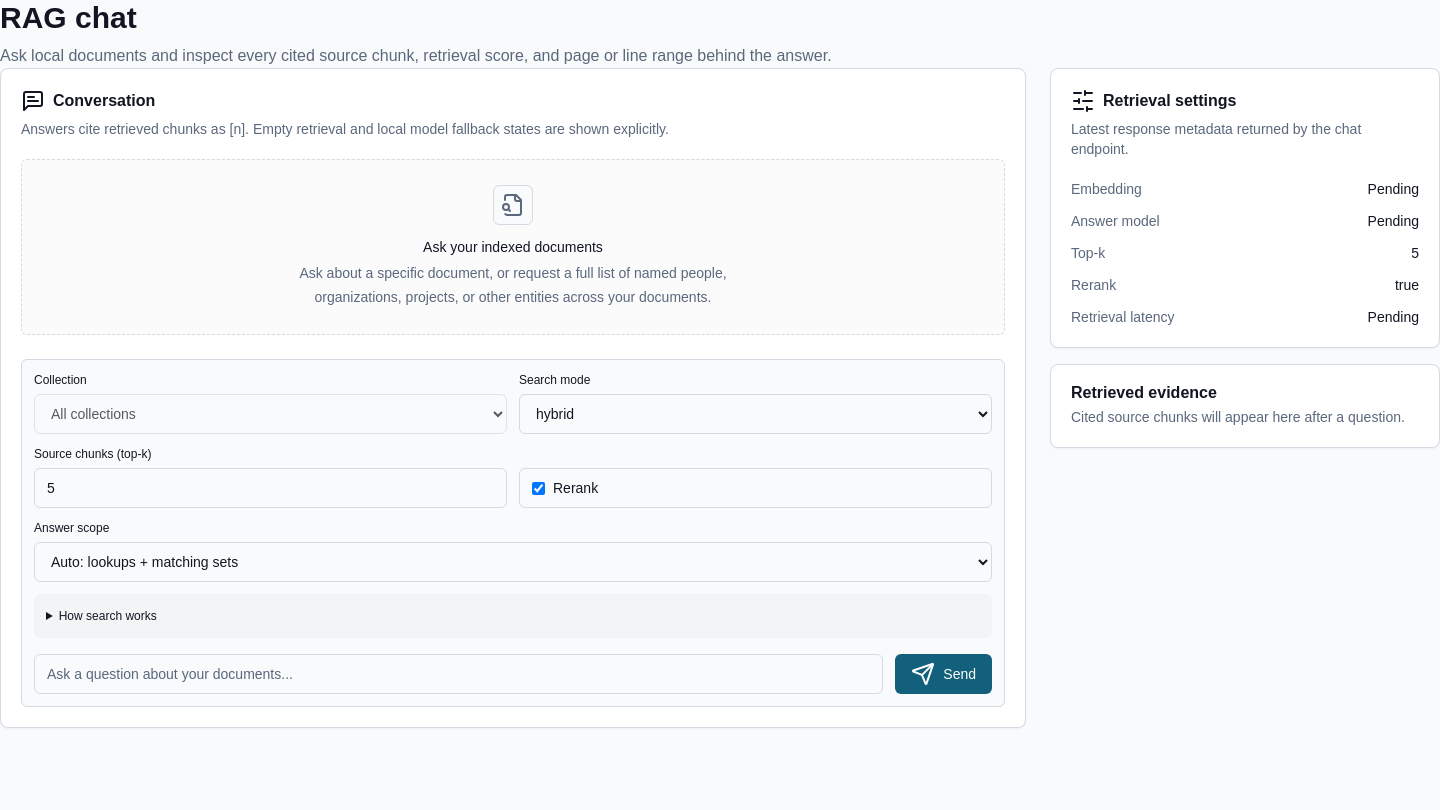
Test case: chat › renders backend chat errors
Type "Question?" into the field with placeholder "Ask a question about your documents..." at [459, 674], box [34,654,883,694]
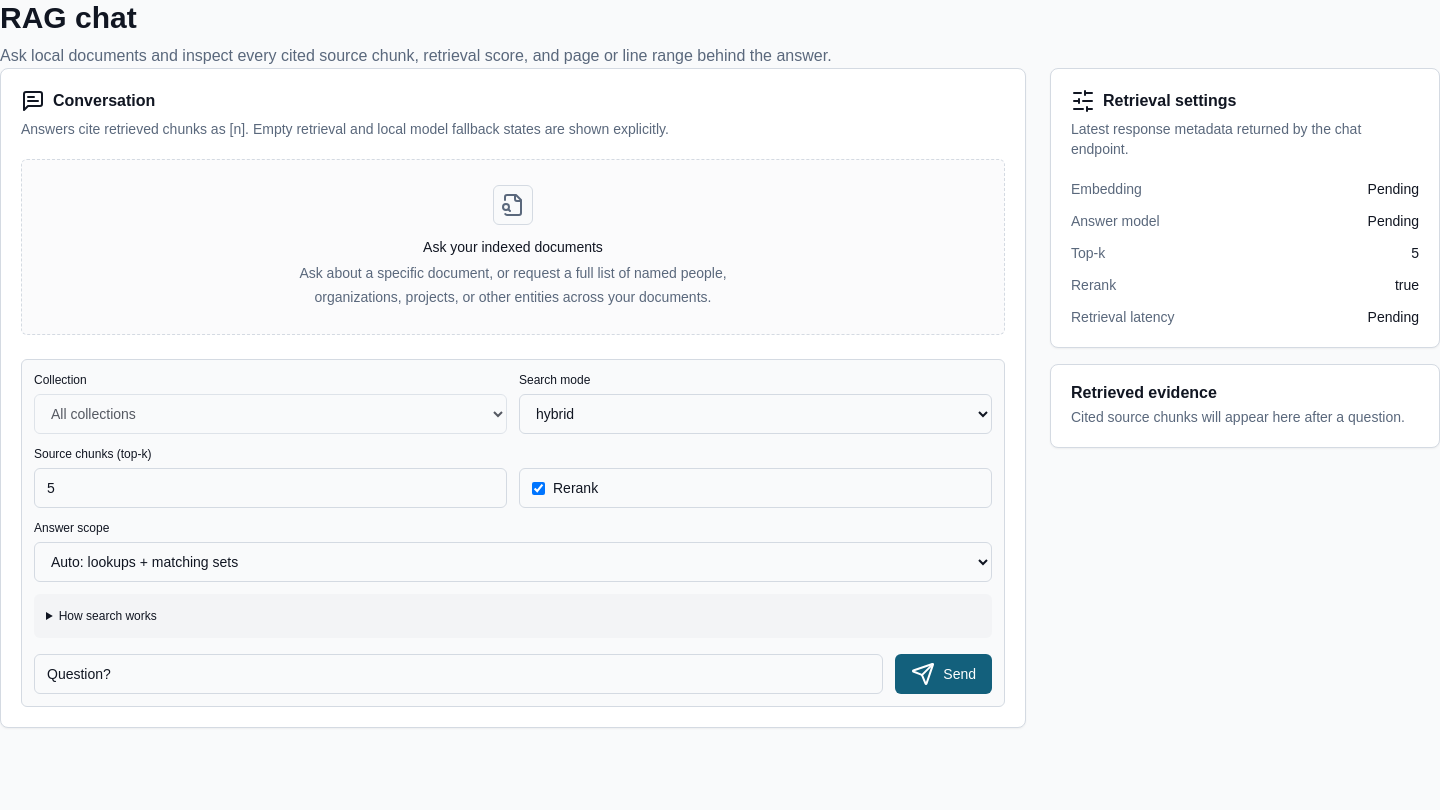
Click the button "Send" at [944, 674], box [895,654,992,694]
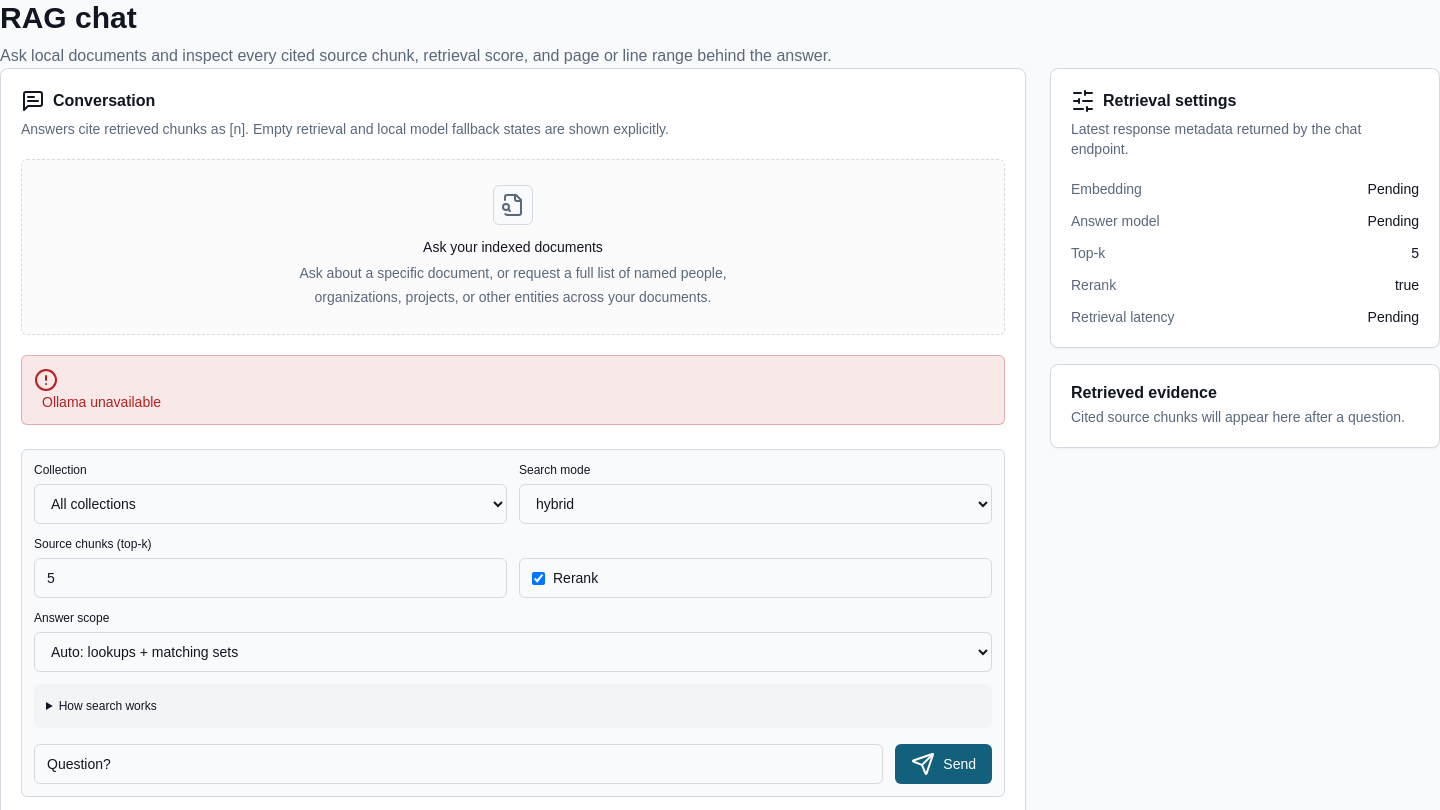
Now the text "Ollama unavailable" is shown, box [42,394,161,410]
